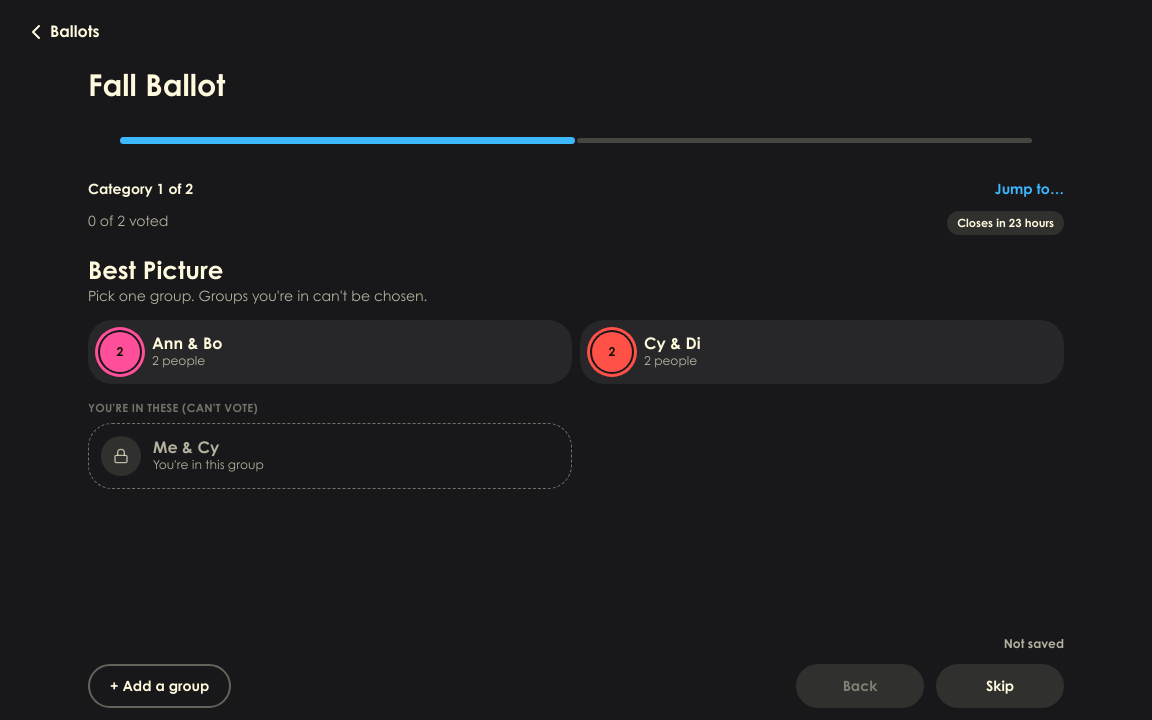
Test case: VotePage group category › shows groups I'm in locked with an explanation, never as a radio
expect the element "Best Picture" is shown: met, box [88,255,1064,489]
expect the number of radio buttons is 2: met, box [88,320,572,384]; [580,320,1064,384]
Click the button with aria-label "me & cy, locked": (121, 456) [88,423,572,489]
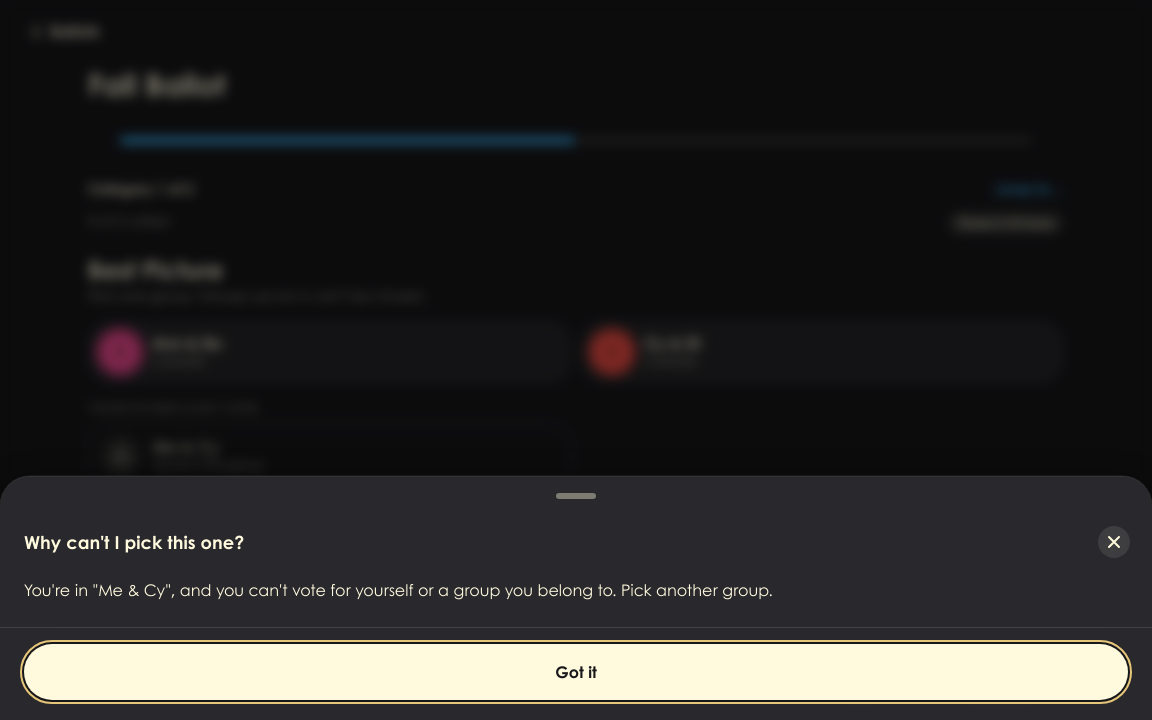
expect the text "you can't vote for yourself or a group you belong to" is shown: met, box [165,584,773,599]
